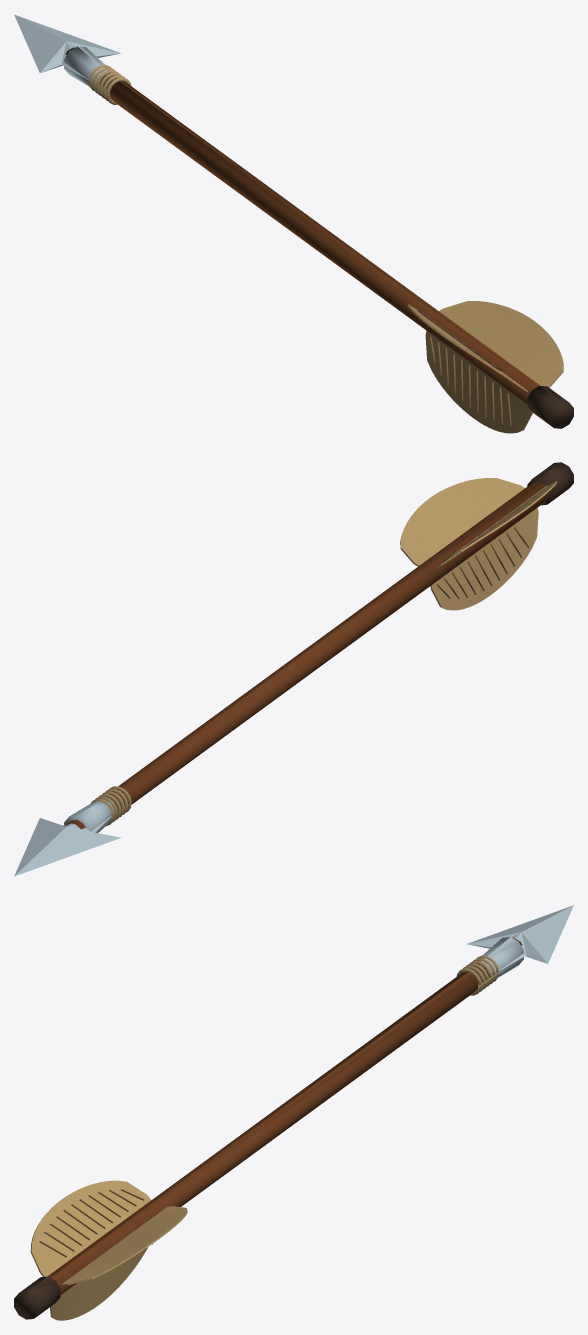
The model's file is arrow.glb.
3 views of the same model, one above another, from view 1: azimuth 30°, elevation 25°; view 2: azimuth 150°, elevation 25°; view 3: azimuth 330°, elevation 25° (orthographic).
Parts seen in each view (by area): view 1: ArrowMesh; view 2: ArrowMesh; view 3: ArrowMesh.
Boxes of the visible parts, x1,y1,x2,y2 form: ArrowMesh: [14, 14, 573, 433]; ArrowMesh: [14, 462, 573, 876]; ArrowMesh: [14, 905, 573, 1320].
Bounding box in the file's own units: 0.0987 × 0.0925 × 0.95.
6 materials, 2 textured.
